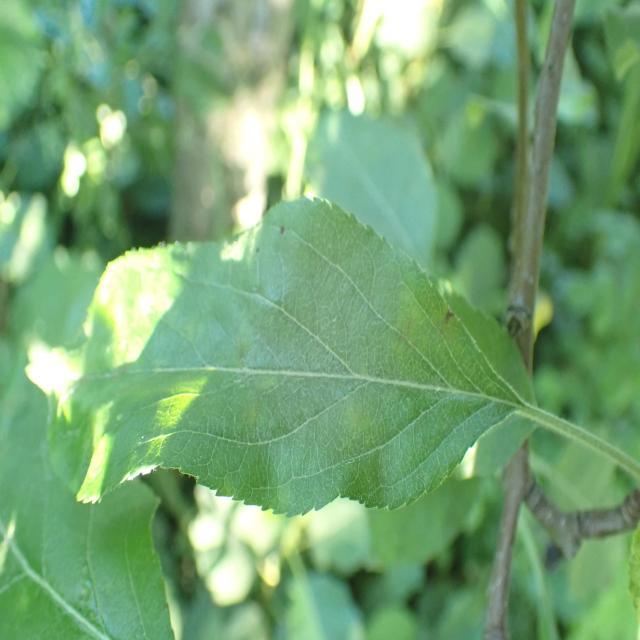scab: (47, 276, 534, 494)
